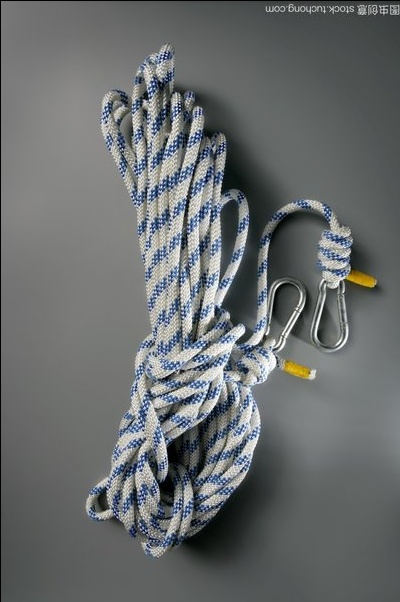9/可回收垃圾/绳子: (84, 42, 379, 559)
